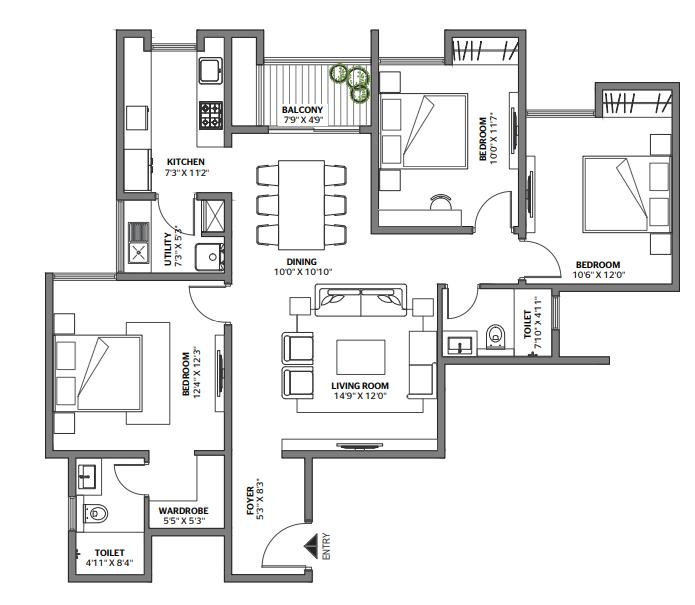Balcony: (235, 42, 375, 133)
Bed: (578, 154, 671, 239), (380, 90, 470, 174), (50, 335, 147, 410)
Bedroom: (47, 274, 227, 453), (522, 115, 673, 285), (374, 67, 518, 230)
Dining Room: (230, 129, 371, 270)
Dining table: (250, 158, 349, 259)
Foyer: (230, 459, 309, 576), (235, 459, 306, 576)
Kitchen: (123, 38, 235, 188)
Living Room: (230, 279, 434, 452), (366, 228, 523, 284)
Sofa: (309, 284, 407, 319), (285, 329, 317, 393), (404, 329, 434, 393)
Wardrobe: (143, 459, 226, 530), (447, 37, 519, 67), (597, 89, 671, 116)
commode: (77, 505, 110, 527), (485, 324, 507, 355)
door: (260, 519, 310, 563), (184, 285, 230, 328), (155, 193, 195, 235), (475, 192, 514, 229), (522, 245, 559, 283), (117, 464, 148, 491), (445, 294, 479, 318)
kitchen-slab: (119, 36, 153, 148), (196, 41, 229, 151)
sink: (71, 455, 103, 495), (195, 55, 227, 87), (444, 332, 476, 359)
stove: (195, 99, 228, 131)
toilet: (70, 451, 152, 579), (440, 289, 555, 359)
tv: (279, 438, 435, 449), (212, 334, 233, 412), (505, 88, 523, 169), (521, 153, 538, 231)
utility: (125, 196, 229, 270)
